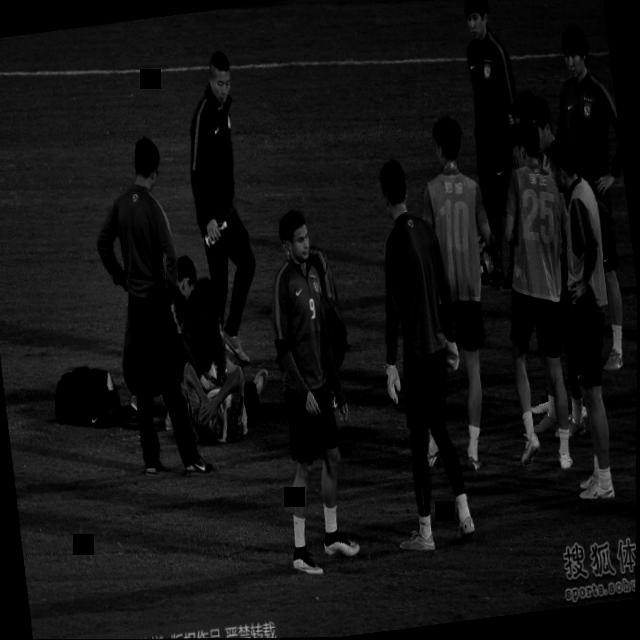Fall-Detected: (172, 346, 278, 457)
